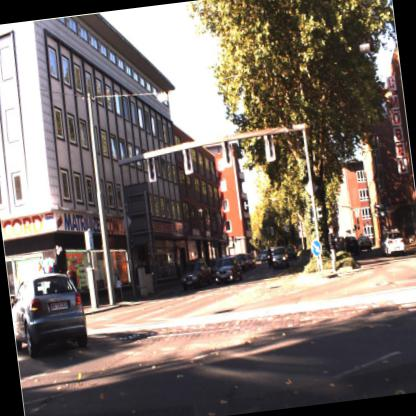mandatory: (308, 238, 324, 257)
